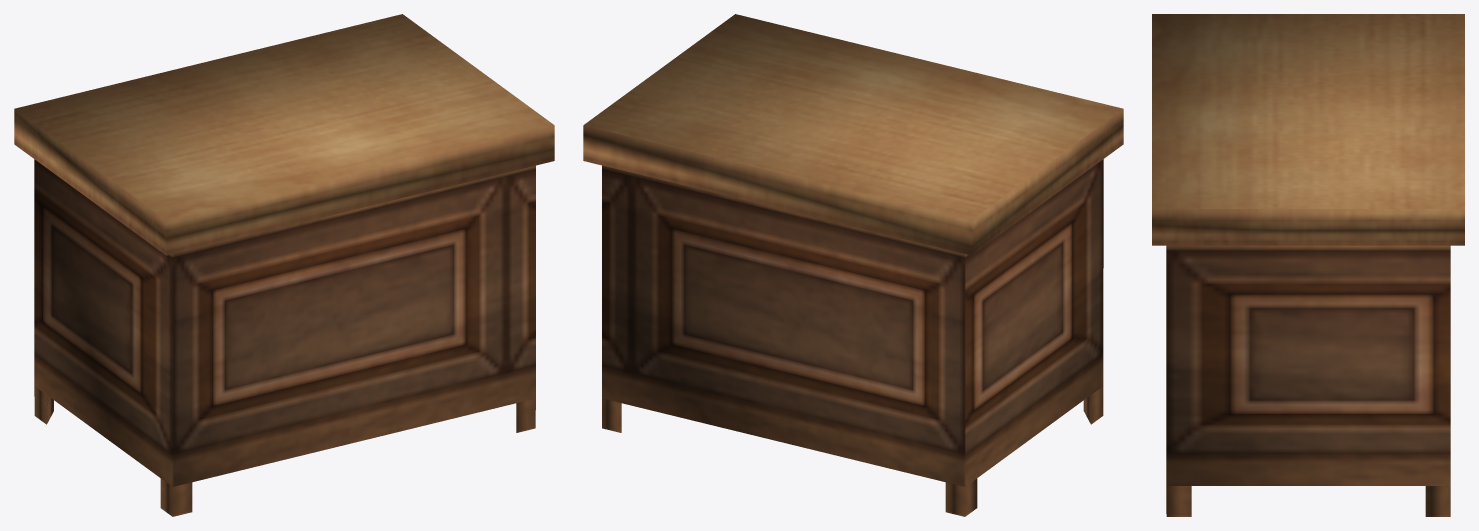
Rendered from a_SCtable01.glb.
3 renders of one model, left to right at view 1: azimuth 30°, elevation 25°; view 2: azimuth 150°, elevation 25°; view 3: azimuth 270°, elevation 25°, orthographic. The views are drawn at different scales.
Parts seen in each view (by area): view 1: a_SCtable01; view 2: a_SCtable01; view 3: a_SCtable01.
Boxes of the visible parts, x1,y1,x2,y2 form: a_SCtable01: [14, 14, 554, 516]; a_SCtable01: [583, 14, 1123, 516]; a_SCtable01: [1152, 14, 1464, 516].
Size of the model in its own units: 0.7912 by 0.5942 by 0.5368.
1 material, 1 textured.
